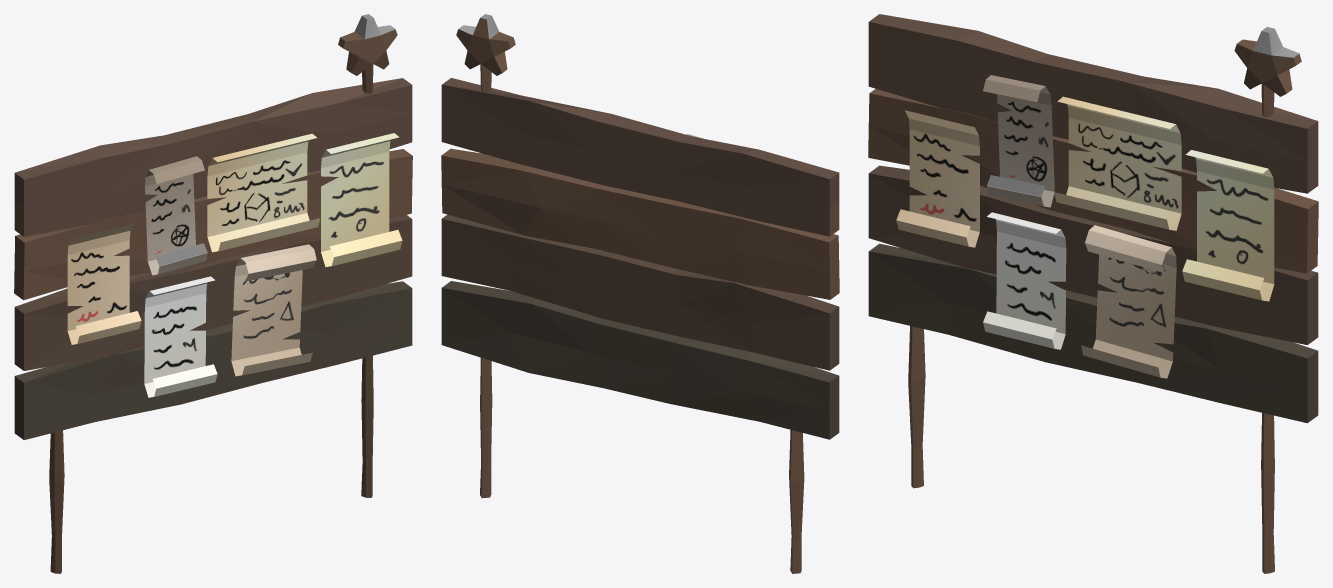
Rendered from sign.fbx.
3 views of the same model, side by side, from view 1: azimuth 30°, elevation 25°; view 2: azimuth 150°, elevation 25°; view 3: azimuth 330°, elevation 25° (orthographic). The views are drawn at different scales.
Parts seen in each view (by area): view 1: Circle; view 2: Circle; view 3: Circle.
Boxes of the visible parts, bbox=[...] form: Circle: bbox=[14, 14, 412, 573]; Circle: bbox=[441, 14, 839, 573]; Circle: bbox=[868, 14, 1318, 573].
Size of the model in its own units: 201 by 236 by 24.74.
1 material, 1 textured.
